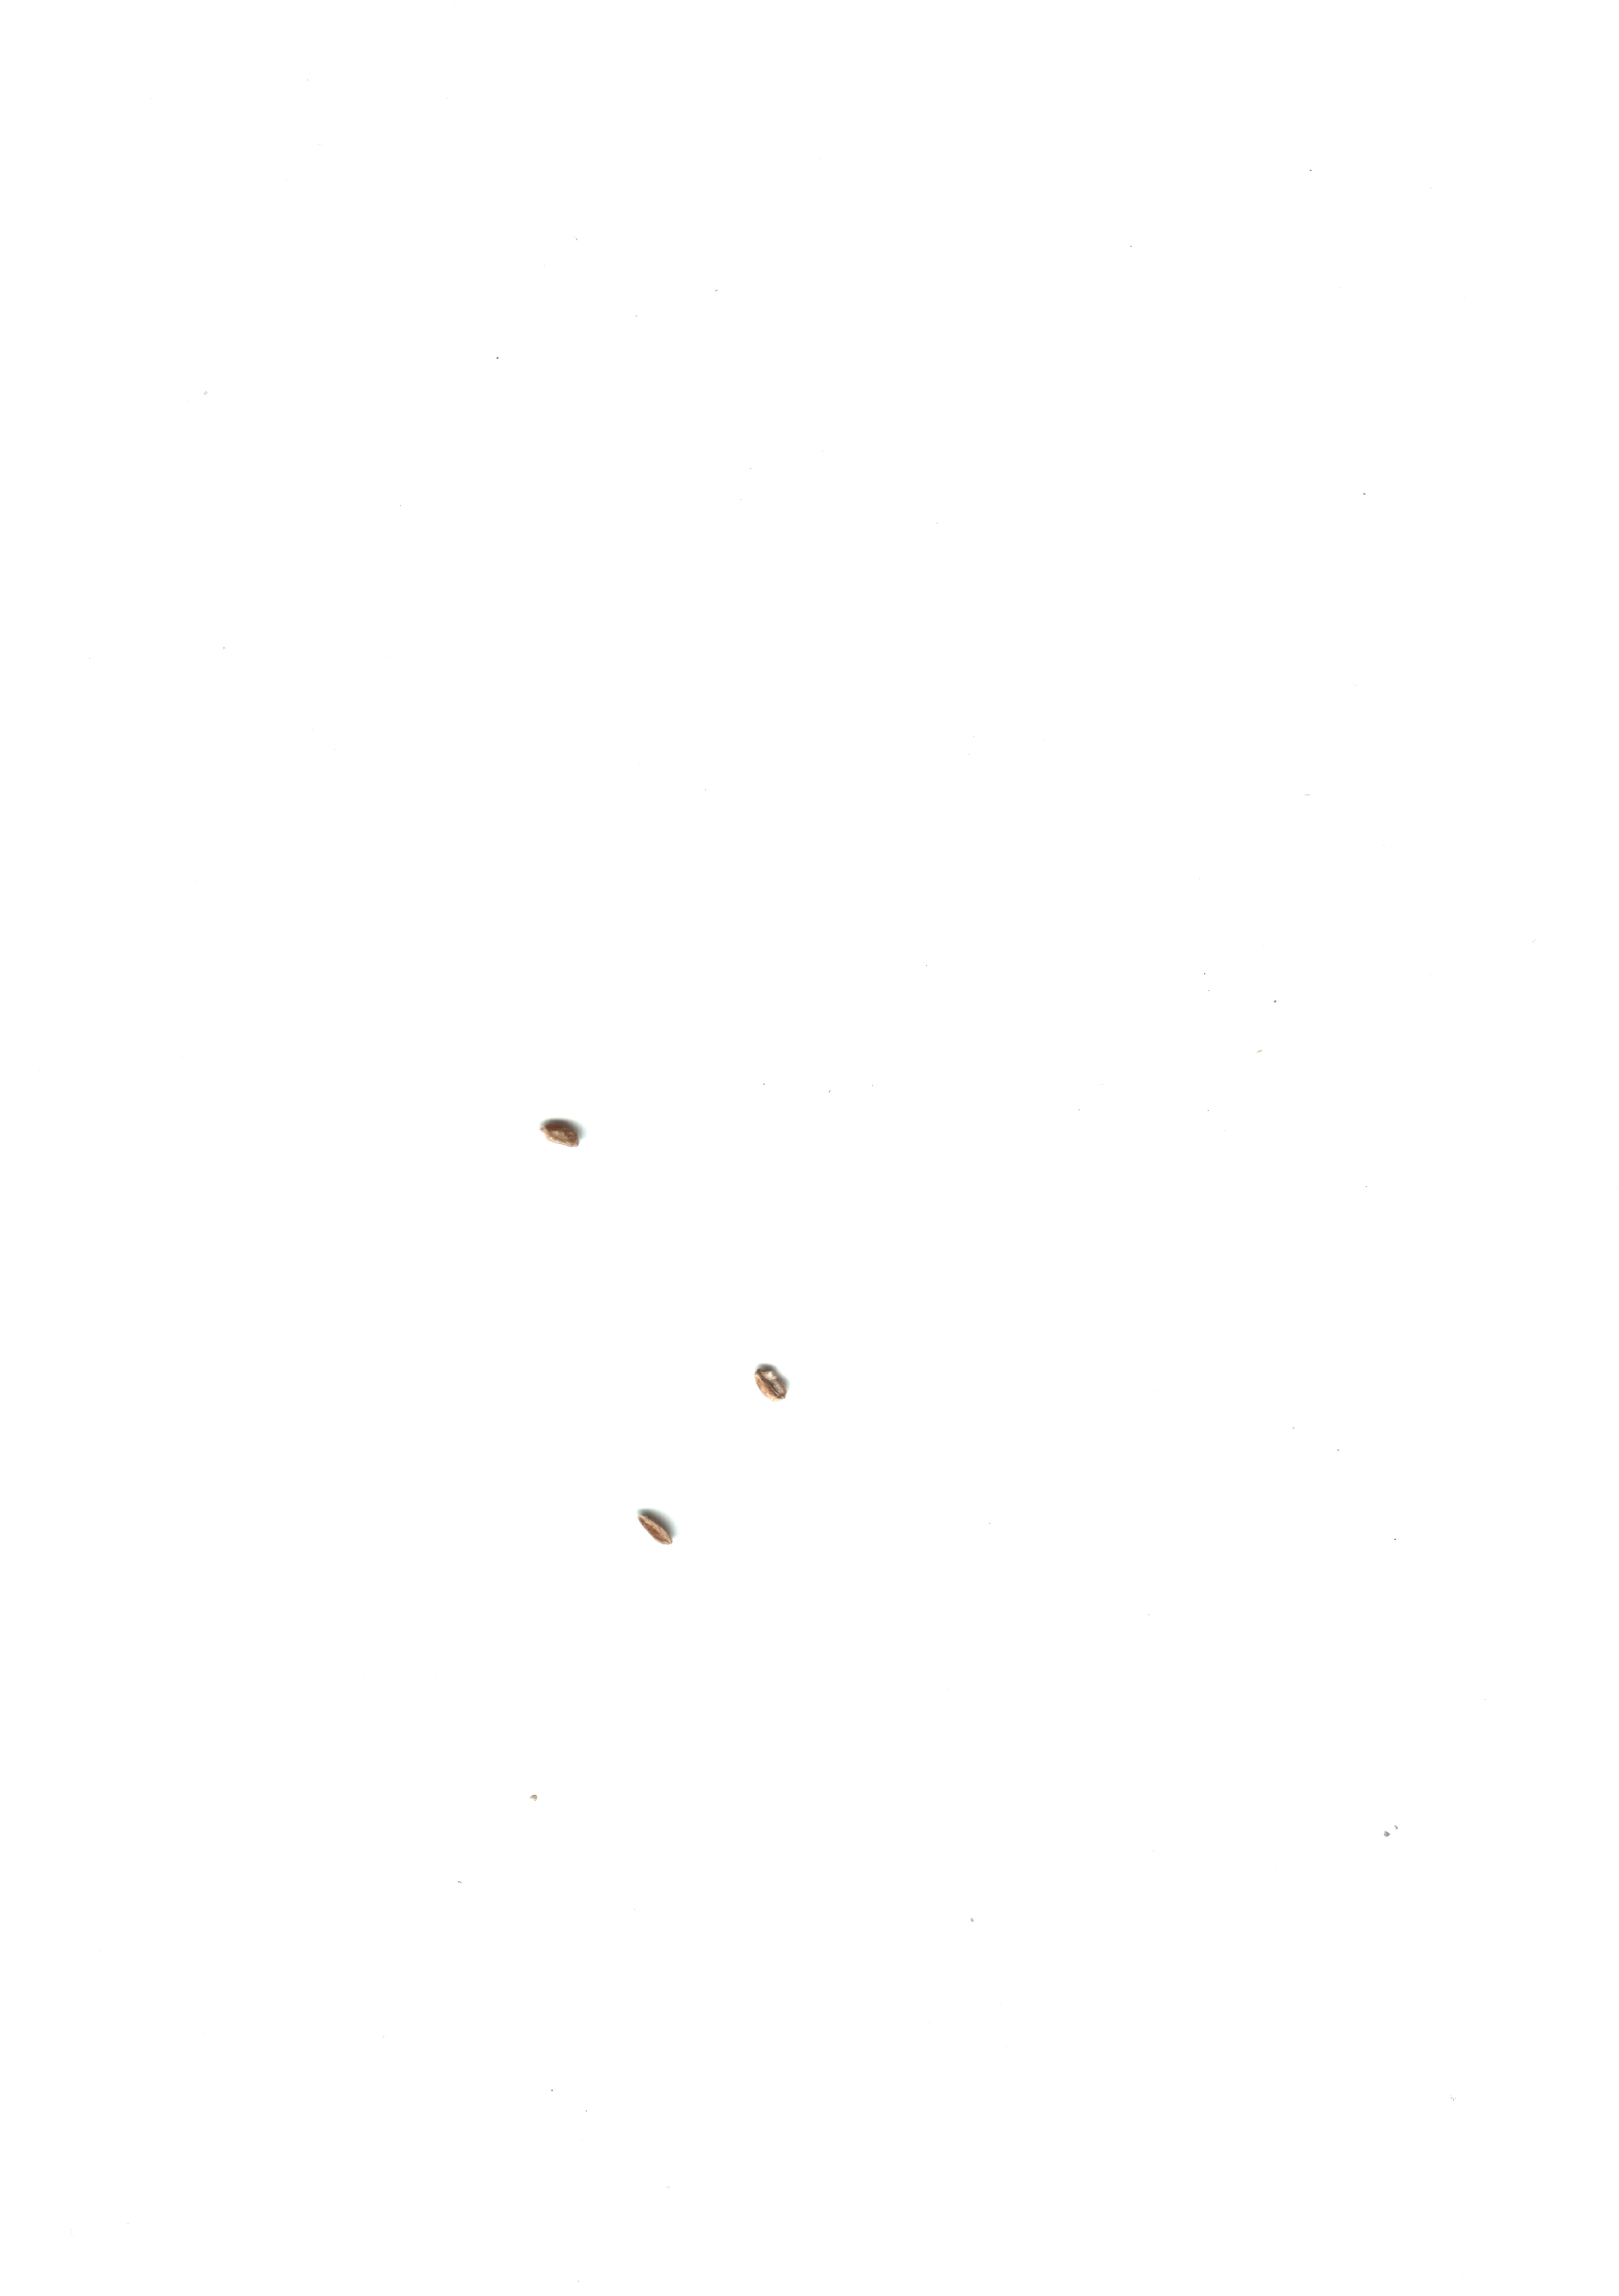grains_2mm: (619, 1483, 701, 1562), (732, 1343, 815, 1421), (526, 1094, 606, 1173)
